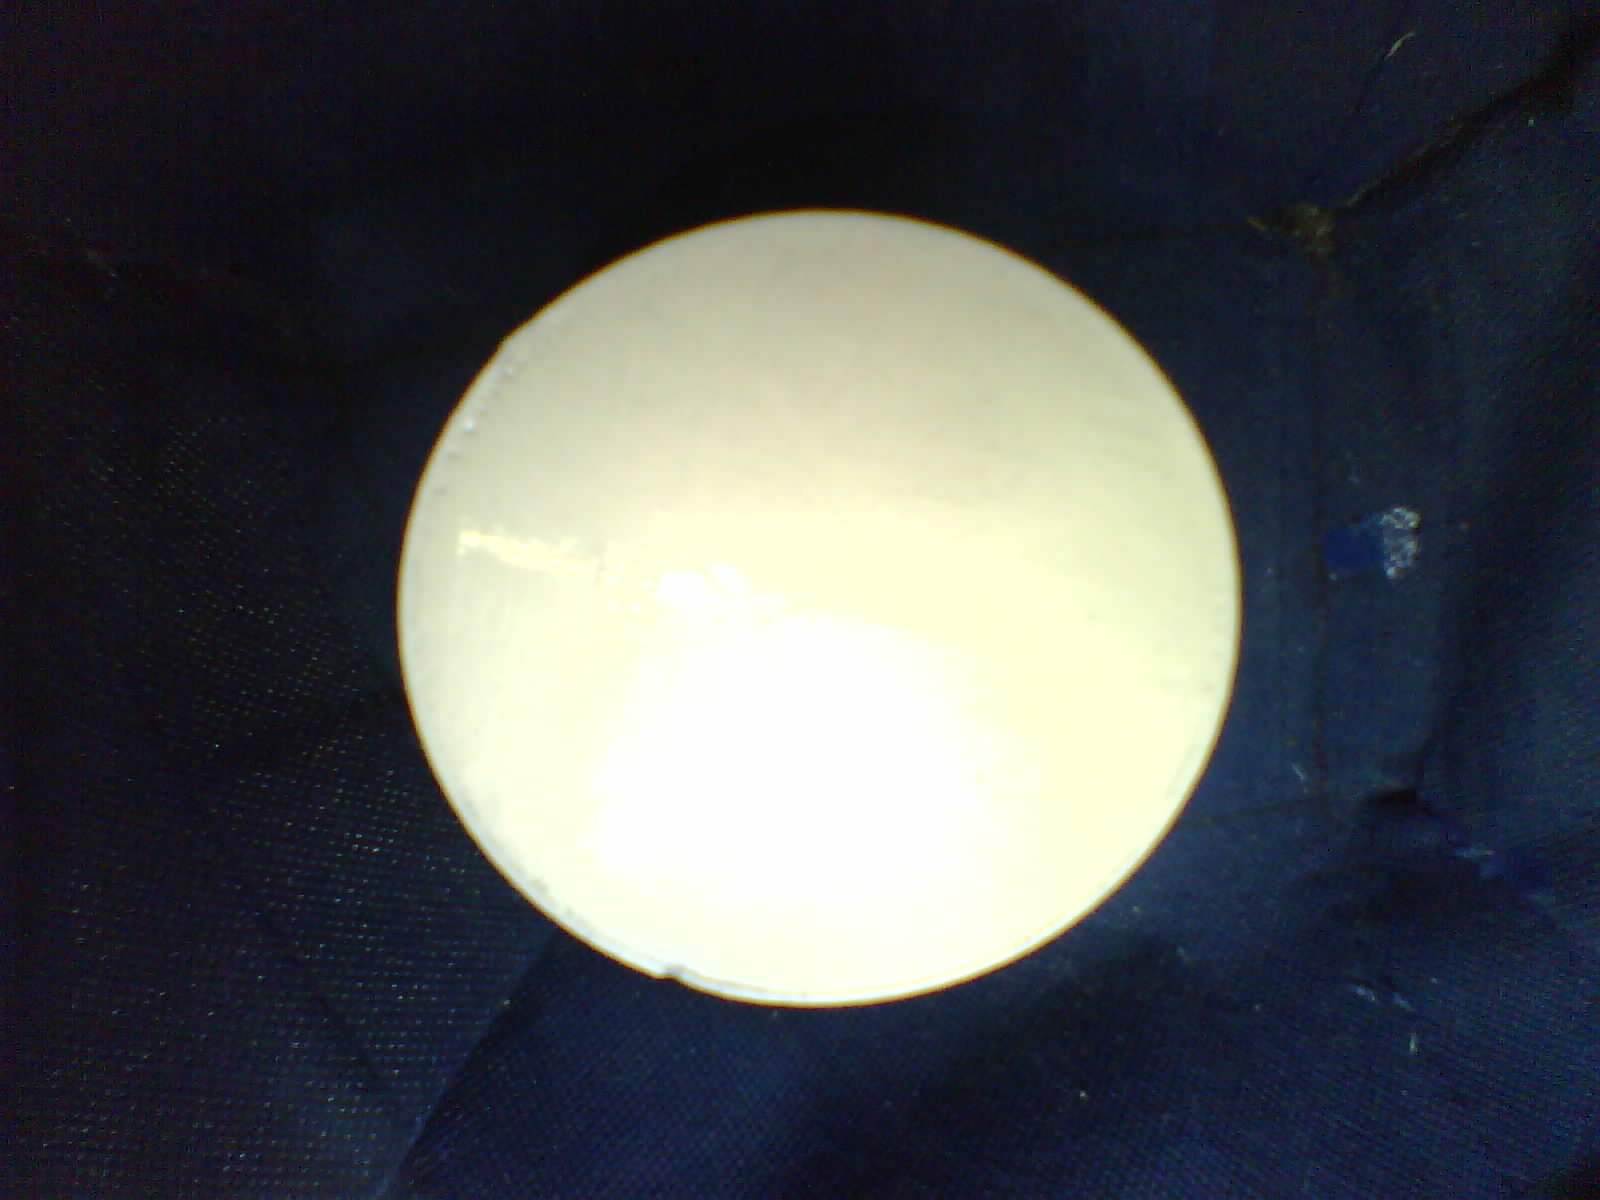cylinder-hard: (377, 189, 1250, 1044)
